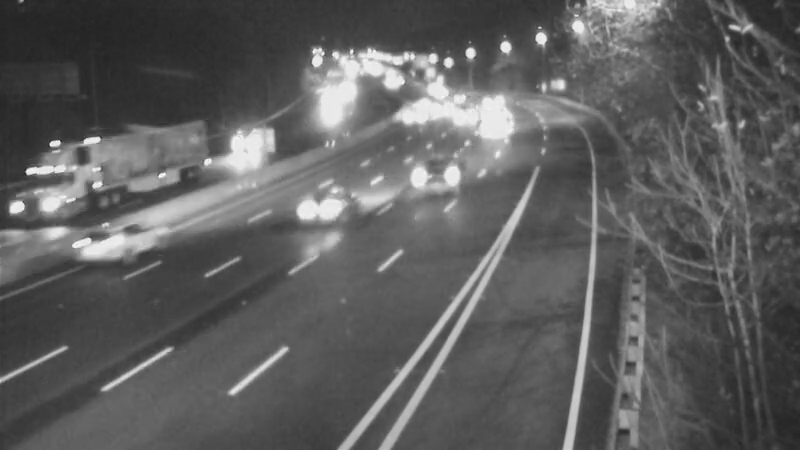vehicle: (402, 135, 482, 215), (278, 169, 358, 249), (63, 205, 143, 285), (7, 149, 87, 229), (433, 74, 483, 124), (398, 77, 448, 127), (455, 73, 505, 123), (416, 90, 466, 140), (469, 88, 519, 138), (440, 92, 490, 142), (383, 92, 433, 142), (467, 107, 517, 157), (219, 117, 269, 167)
